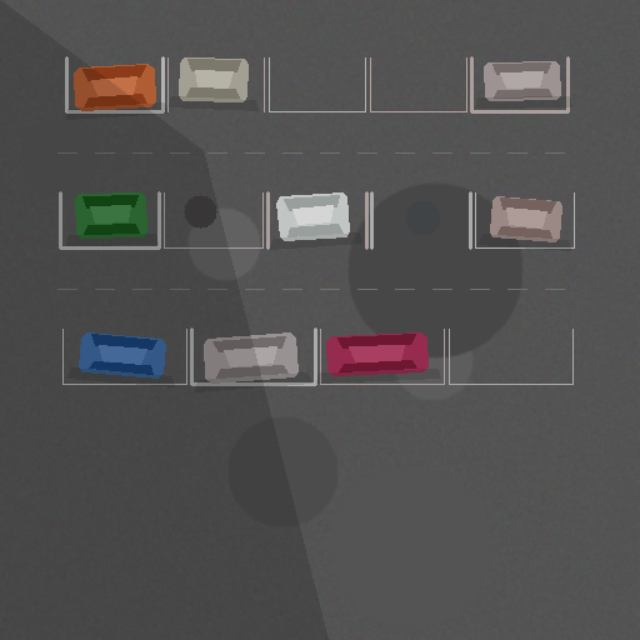space-empty: (449, 329, 573, 384), (164, 192, 263, 248), (371, 192, 470, 248), (269, 58, 365, 111), (370, 58, 466, 111)
space-occupied: (191, 329, 315, 384), (320, 329, 444, 384), (63, 329, 186, 384), (60, 192, 159, 248), (267, 192, 366, 248), (475, 192, 574, 248), (66, 58, 163, 111), (167, 58, 264, 111), (471, 58, 567, 111)
